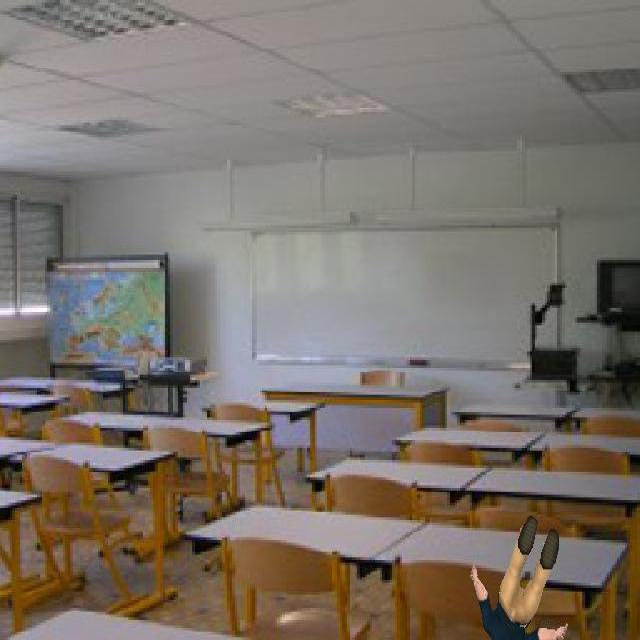obstacle: (468, 510, 573, 640)
